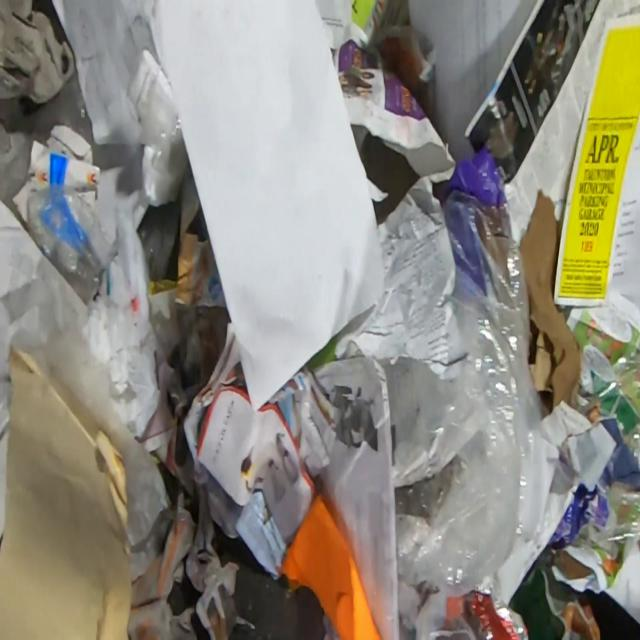cardboard: (530, 418, 640, 582), (276, 488, 383, 640), (520, 185, 580, 414), (11, 122, 102, 224), (0, 0, 76, 108), (528, 331, 552, 392)
rigid_plastic: (4, 251, 163, 440), (576, 340, 640, 485)
soft_plastic: (378, 189, 548, 639), (10, 316, 173, 586), (26, 181, 118, 309), (568, 483, 640, 566), (446, 144, 510, 203), (152, 113, 190, 179)
